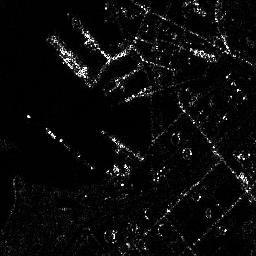ship: (48, 35, 88, 78)
